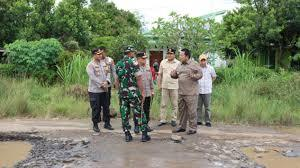Pothole: (2, 124, 74, 168), (221, 128, 300, 168), (144, 113, 192, 146)
